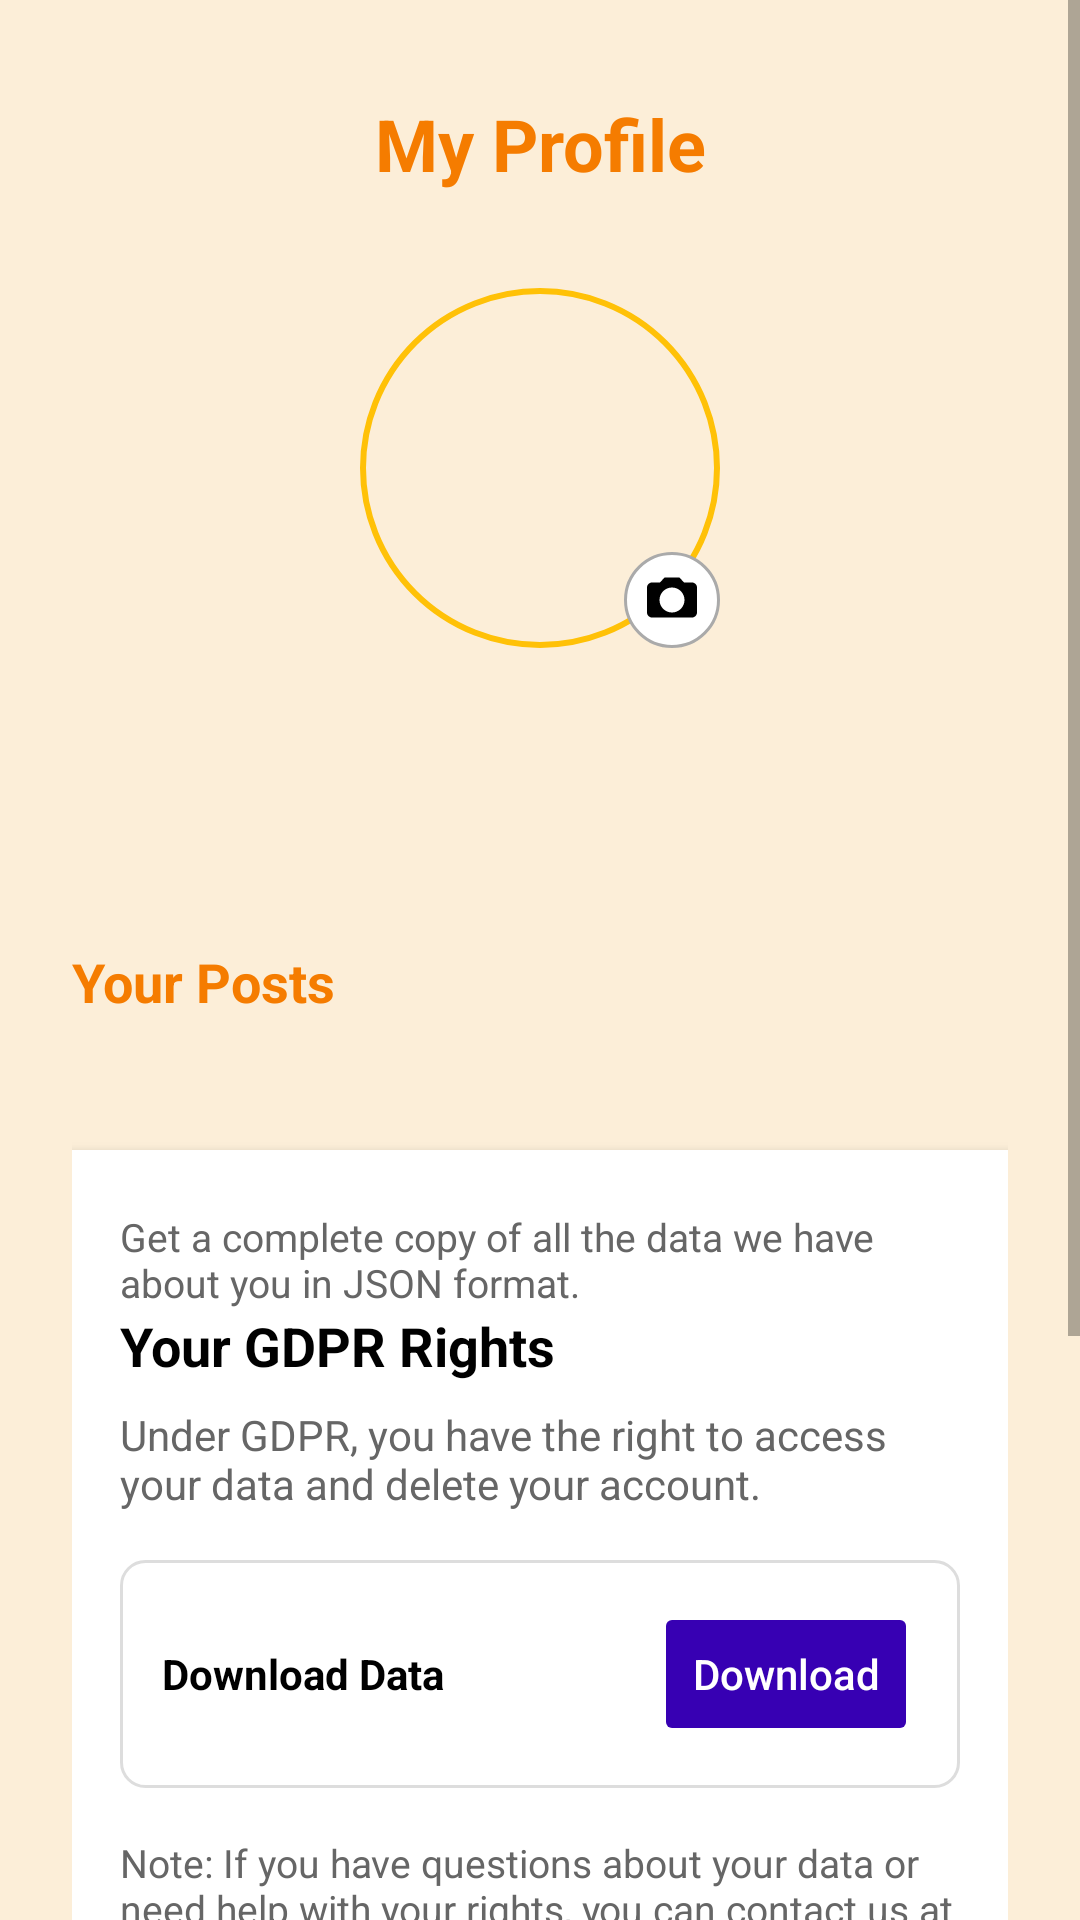

Named icons in this screenshot (1080 × 1920) and their centers, (x=x, y=y):
Change profile picture: (x=672, y=600)
